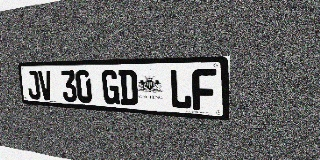0: (75, 70, 92, 103)
3: (61, 70, 77, 102)
D: (118, 70, 138, 106)
F: (192, 69, 216, 111)
G: (101, 70, 120, 105)
J: (26, 70, 41, 100)
L: (169, 69, 192, 110)
V: (38, 70, 53, 101)
